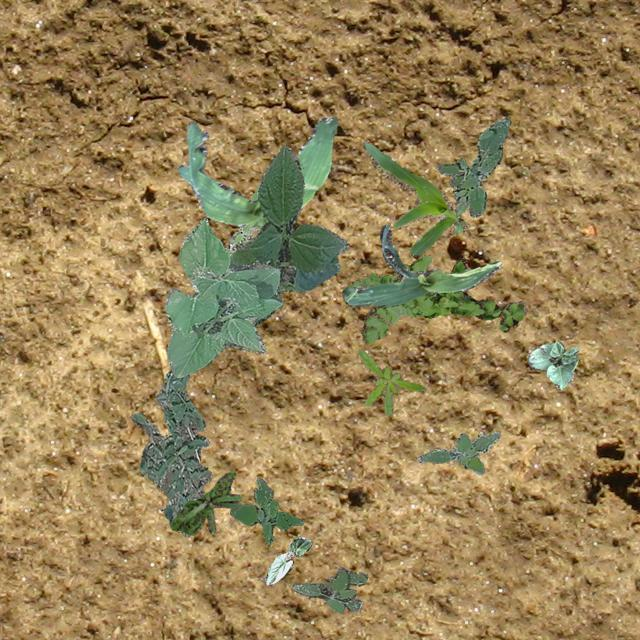crop: (228, 143, 348, 324), (164, 216, 282, 376), (176, 116, 337, 230), (342, 223, 501, 305), (362, 140, 468, 254), (526, 339, 578, 388), (264, 536, 310, 584)
weed: (344, 255, 526, 342), (130, 368, 212, 536), (436, 116, 510, 216), (228, 476, 302, 544), (356, 348, 424, 416), (170, 470, 242, 534), (416, 431, 499, 474), (292, 566, 366, 612), (224, 184, 258, 256)
